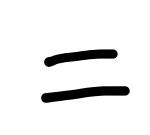eqv: (42, 50, 130, 102)
